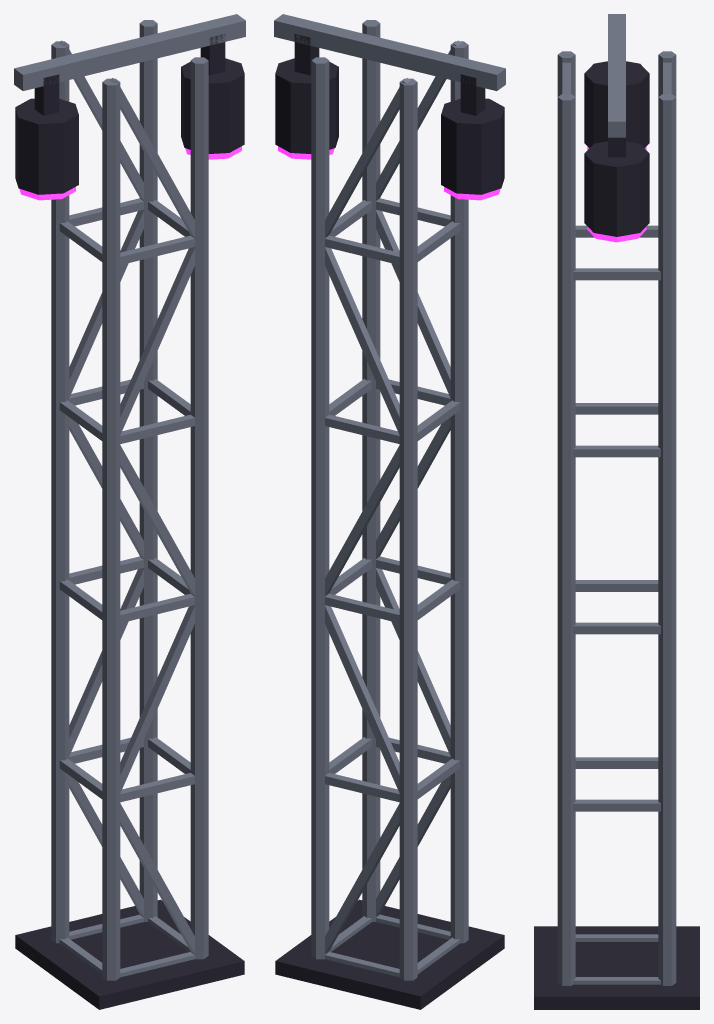
Rendered from truss-tower.glb.
3 renders of one model, left to right at view 1: azimuth 30°, elevation 25°; view 2: azimuth 150°, elevation 25°; view 3: azimuth 270°, elevation 25°, orthographic.
Parts seen in each view (by area): view 1: truss-tower; view 2: truss-tower; view 3: truss-tower.
Boxes of the visible parts, x1,y1,x2,y2 form: truss-tower: (14,14,245,1009); truss-tower: (274,14,505,1009); truss-tower: (534,14,699,1009).
Bounding box in the file's own units: 0.86 × 3.38 × 0.56.
